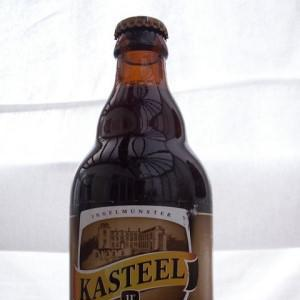beer: (69, 15, 213, 300)
